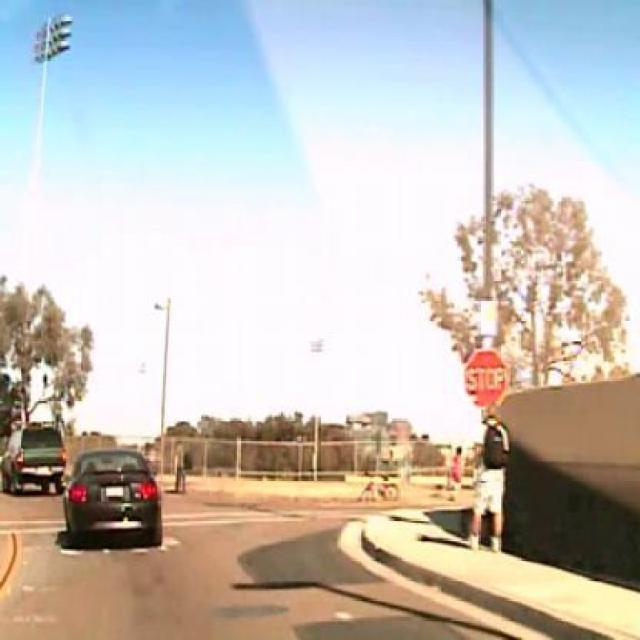traffic_sign: (462, 345, 512, 413)
